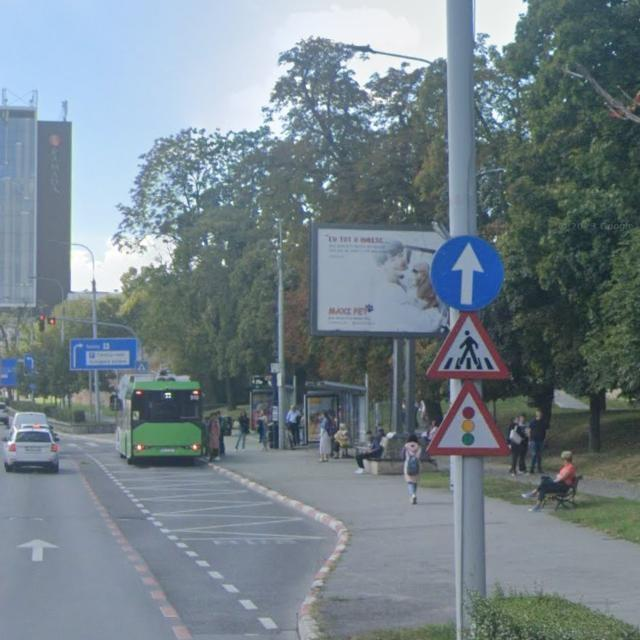warn_crosswalk: (426, 311, 510, 381)
